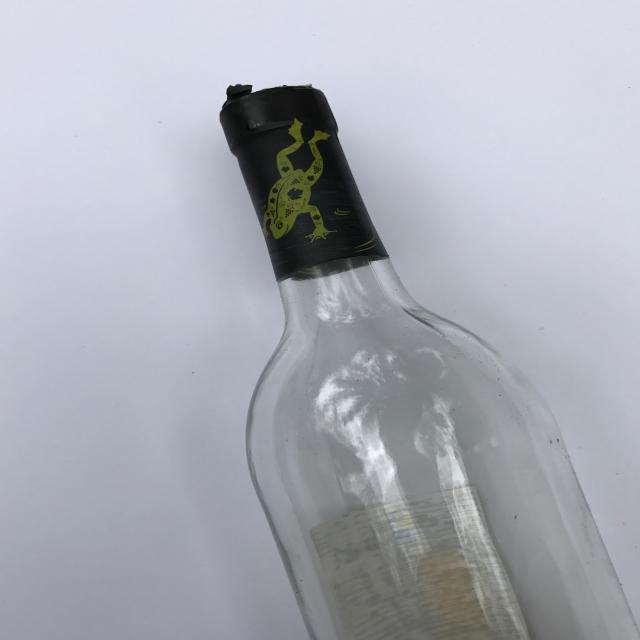glass: (219, 82, 640, 640)
